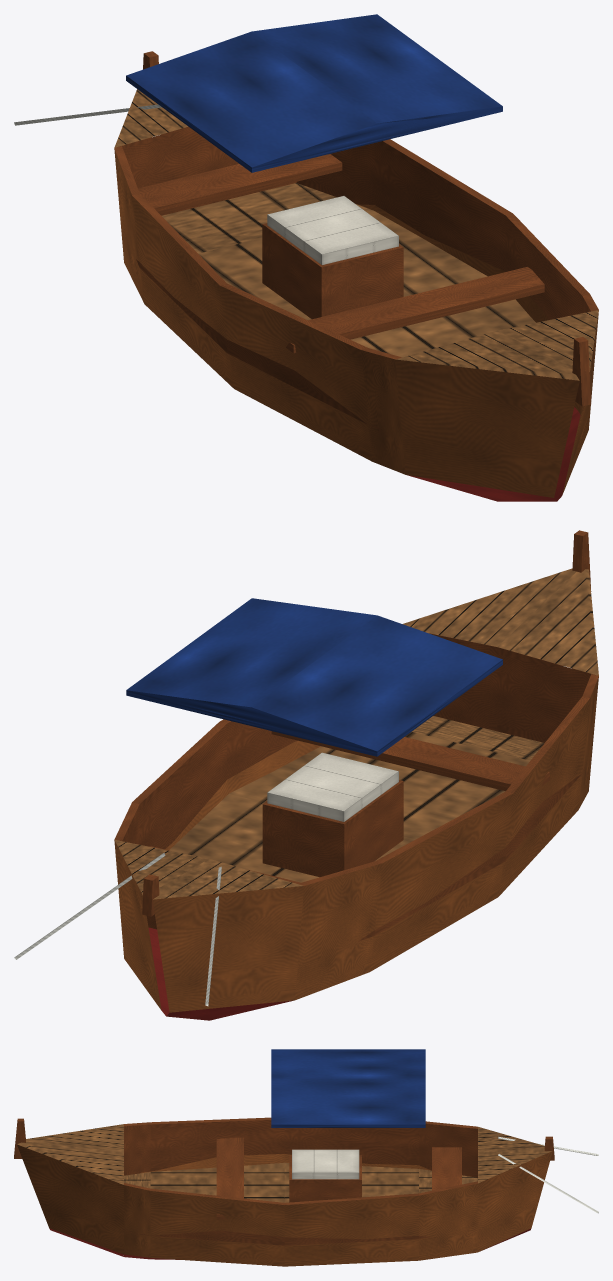
File: SM_Morin_Barca_Gozzo_Legno_LOD2.fbx
3 views of the same model, one above another, from view 1: azimuth 30°, elevation 25°; view 2: azimuth 150°, elevation 25°; view 3: azimuth 270°, elevation 25° (orthographic). The views are drawn at different scales.
Visible parts, largest first — view 1: SM_Morin_Barca_Gozzo_Legno_LOD2; view 2: SM_Morin_Barca_Gozzo_Legno_LOD2; view 3: SM_Morin_Barca_Gozzo_Legno_LOD2.
Boxes of the visible parts, box(x1,y1,x2,y2) form: SM_Morin_Barca_Gozzo_Legno_LOD2: box(14, 14, 598, 501); SM_Morin_Barca_Gozzo_Legno_LOD2: box(14, 530, 598, 1020); SM_Morin_Barca_Gozzo_Legno_LOD2: box(14, 1049, 598, 1266).
Size of the model in its own units: 229 by 644 by 222.
1 material, 1 textured.
